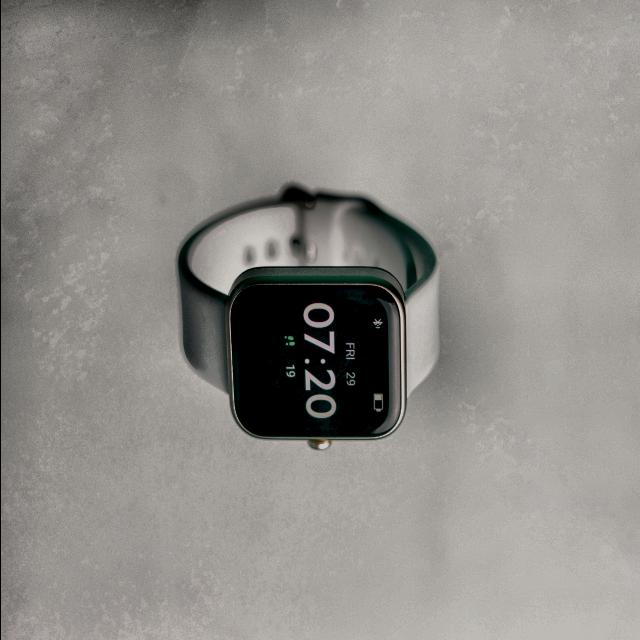Electronic watch: (178, 190, 437, 442)
